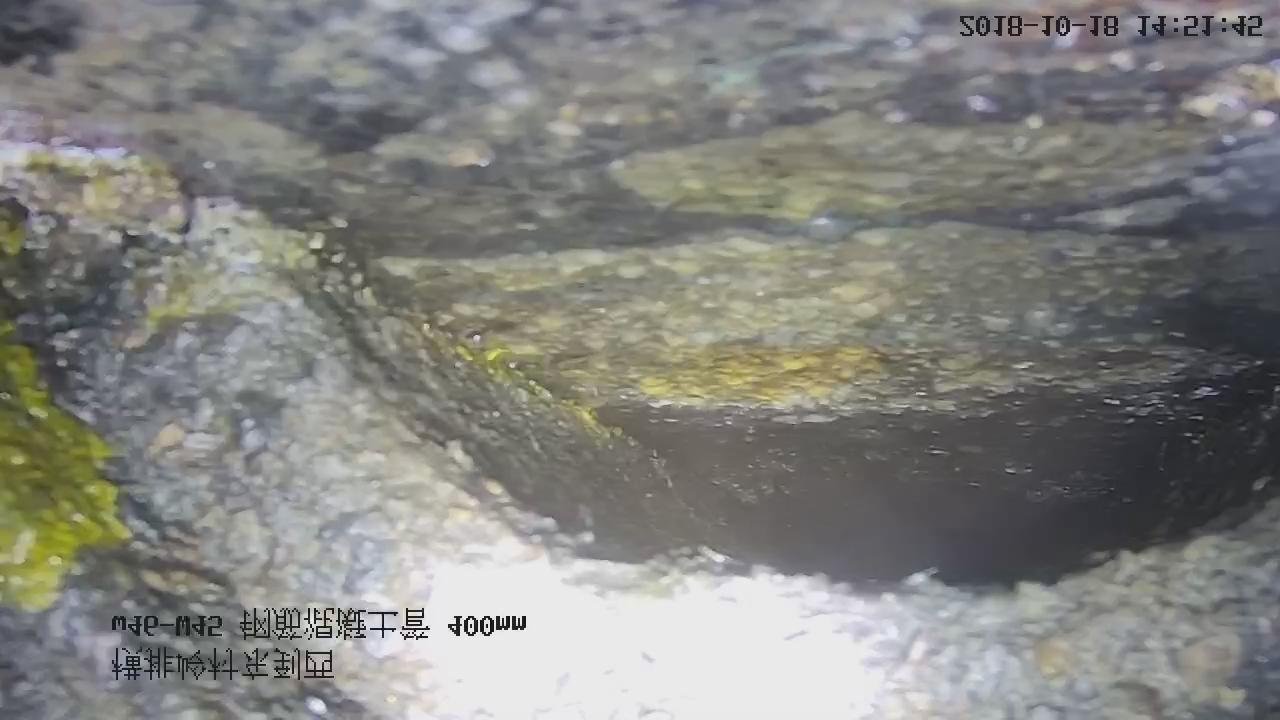FZ: (0, 2, 1279, 501)
